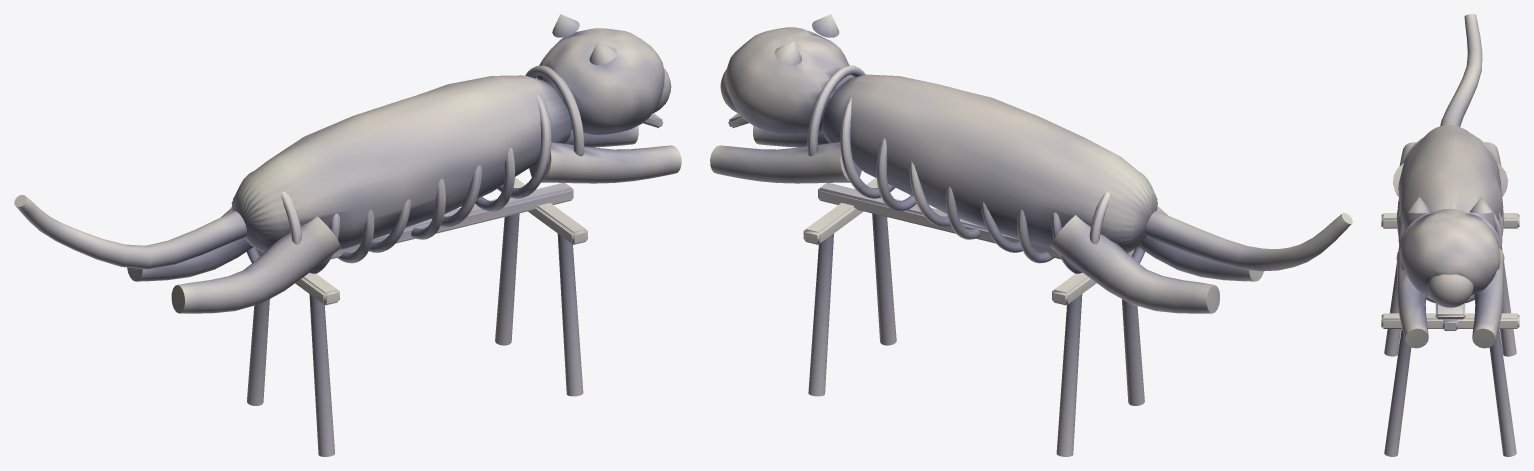
Rendered from tiger-frame.glb.
3 renders of one model, left to right at view 1: azimuth 30°, elevation 25°; view 2: azimuth 150°, elevation 25°; view 3: azimuth 270°, elevation 25°, orthographic. The views are drawn at different scales.
Parts seen in each view (by area): view 1: body; view 2: body; view 3: body.
Part boxes in pixels (left/top/right/bottom): body: left=14, top=14, right=681, bottom=456; body: left=710, top=14, right=1352, bottom=456; body: left=1381, top=14, right=1519, bottom=456.
Size of the model in its own units: 3.09 by 1.53 by 0.7.
